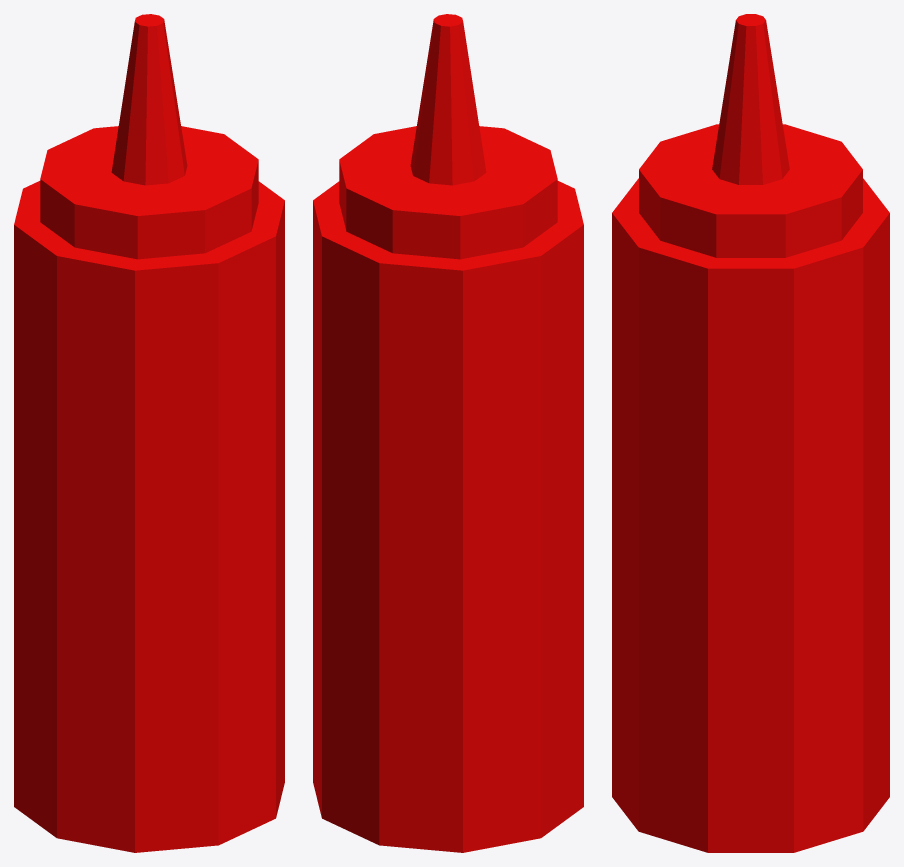
The model's file is ketchup.obj.
3 views of the same model, side by side, from view 1: azimuth 30°, elevation 25°; view 2: azimuth 150°, elevation 25°; view 3: azimuth 270°, elevation 25° (orthographic).
Visible parts, largest first — view 1: Cylinder_Mesh; view 2: Cylinder_Mesh; view 3: Cylinder_Mesh.
Boxes of the visible parts, left/top/right/bottom form: Cylinder_Mesh: left=14, top=14, right=284, bottom=852; Cylinder_Mesh: left=313, top=14, right=583, bottom=852; Cylinder_Mesh: left=612, top=14, right=889, bottom=852.
Size of the model in its own units: 0.0714 by 0.2315 by 0.075.
